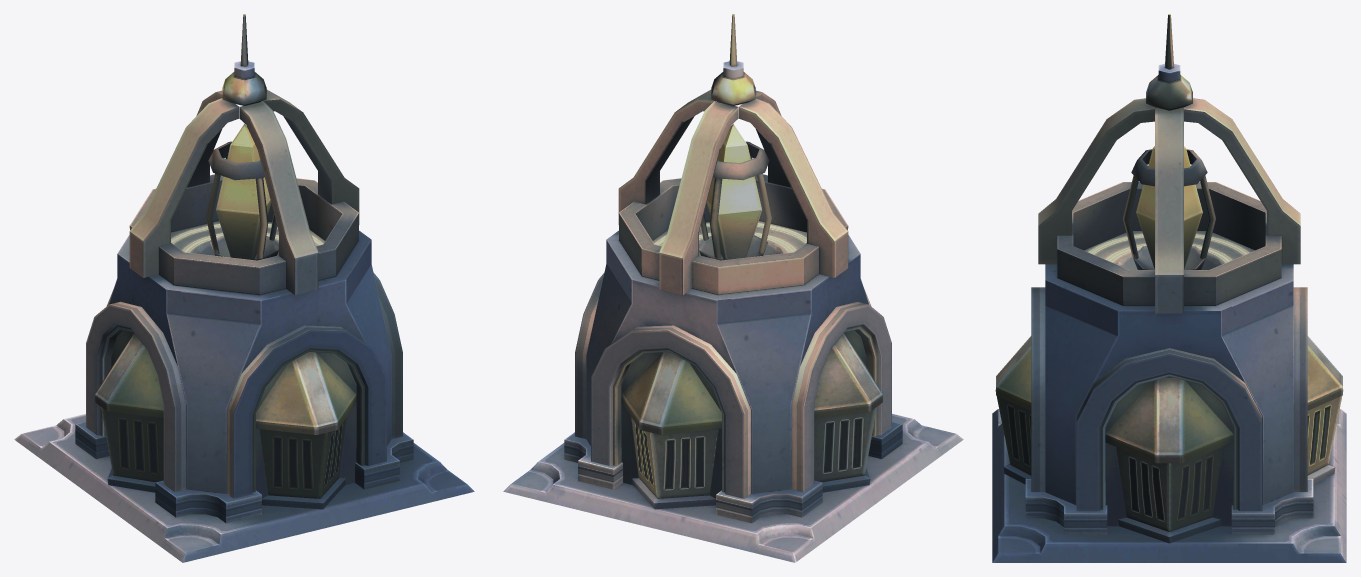
Rendered from S_zhong.fbx.
3 views of the same model, side by side, from view 1: azimuth 30°, elevation 25°; view 2: azimuth 150°, elevation 25°; view 3: azimuth 270°, elevation 25° (orthographic). The views are drawn at different scales.
Visible parts, largest first — view 1: S_zhong; view 2: S_zhong; view 3: S_zhong.
Part boxes in pixels (x1,y1,x2,y2): S_zhong: (14, 14, 474, 562); S_zhong: (503, 14, 963, 562); S_zhong: (992, 14, 1346, 562).
Size of the model in its own units: 1 by 1.48 by 1.
1 material, 1 textured.
